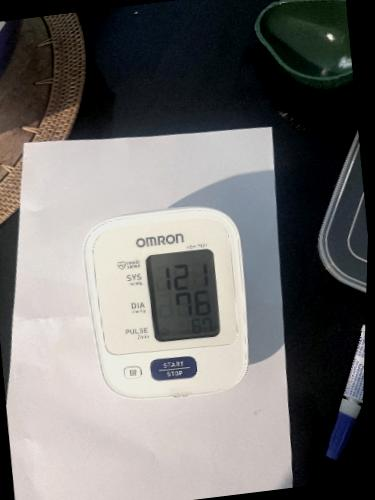bpm: (145, 248, 222, 343)
